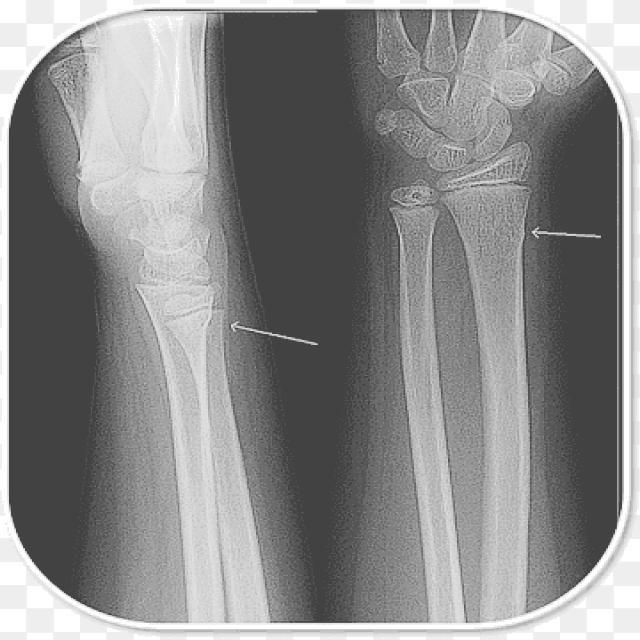GreenStick Fracture: (186, 304, 229, 329), (515, 218, 527, 267)
